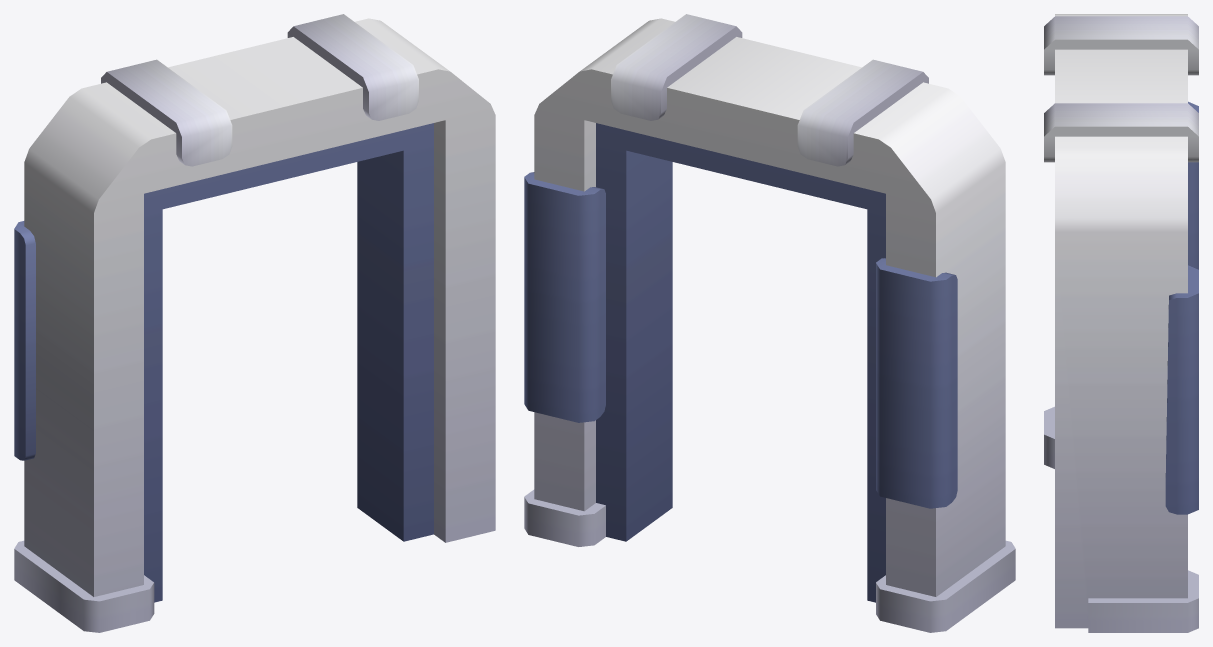
Rendered from gate.glb.
3 renders of one model, left to right at view 1: azimuth 30°, elevation 25°; view 2: azimuth 150°, elevation 25°; view 3: azimuth 270°, elevation 25°, orthographic. The views are drawn at different scales.
Parts seen in each view (by area): view 1: gate; view 2: gate; view 3: gate.
Boxes of the visible parts, bbox=[...] form: gate: bbox=[14, 14, 495, 632]; gate: bbox=[524, 14, 1015, 632]; gate: bbox=[1044, 14, 1198, 632].
Size of the model in its own units: 4.2 by 4.62 by 1.4.
Materials: 1 (1 with a texture image).
